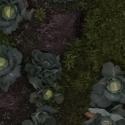cabbage: (107, 78, 124, 94), (40, 89, 58, 101), (0, 5, 14, 19), (0, 54, 8, 72), (98, 116, 114, 125)
